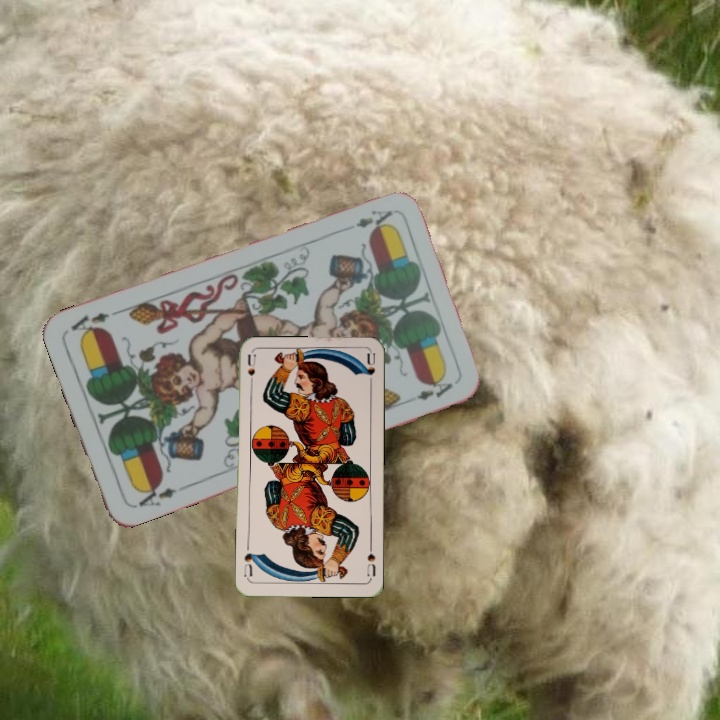EA: (132, 479, 180, 510), (351, 206, 395, 235)
SU: (363, 540, 378, 581), (244, 351, 258, 392)
